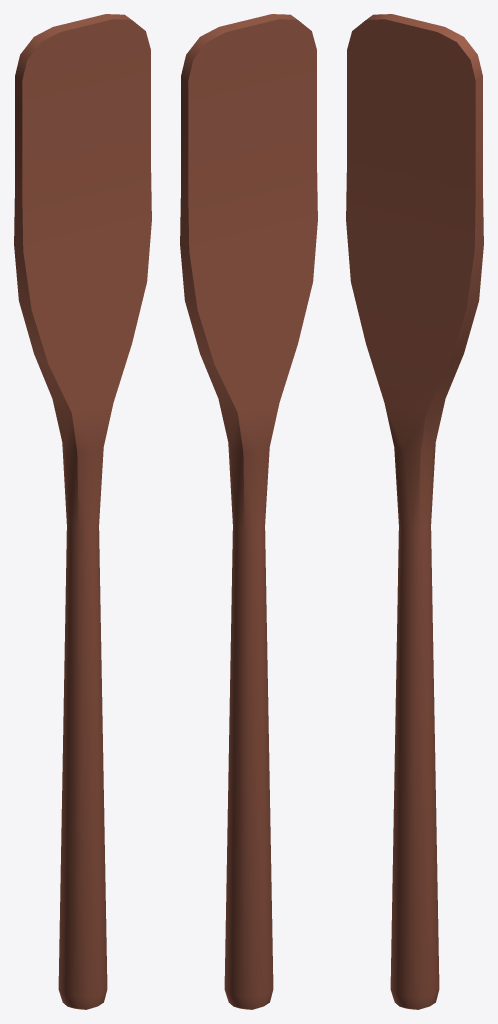
The model's file is oar.gltf.glb.
3 renders of one model, left to right at view 1: azimuth 30°, elevation 25°; view 2: azimuth 210°, elevation 25°; view 3: azimuth 330°, elevation 25°, orthographic.
Parts seen in each view (by area): view 1: oar; view 2: oar; view 3: oar.
Part boxes in pixels (<box>): oar: <box>14,14,151,1009</box>; oar: <box>180,14,317,1009</box>; oar: <box>346,14,483,1009</box>.
Bounding box in the file's own units: 0.2542 × 1.85 × 0.0833.
